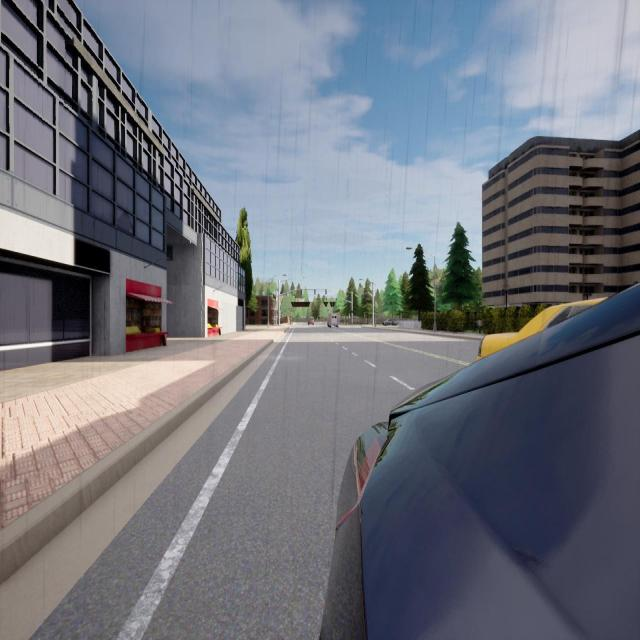Vehicle: (321, 284, 639, 637), (478, 299, 605, 358), (328, 312, 339, 328), (383, 319, 396, 325), (308, 317, 314, 325)
traffic_light: (314, 289, 316, 294), (318, 298, 319, 302), (326, 298, 327, 302), (301, 290, 302, 294), (352, 310, 353, 312), (336, 298, 336, 301), (326, 289, 326, 294)
